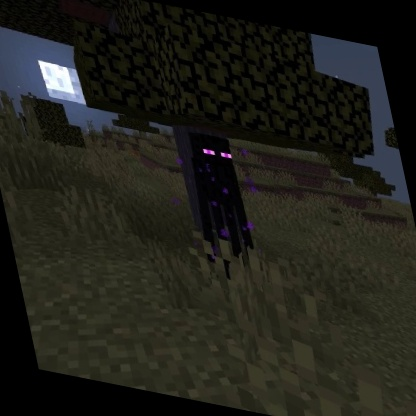enderman: (177, 126, 266, 288)
